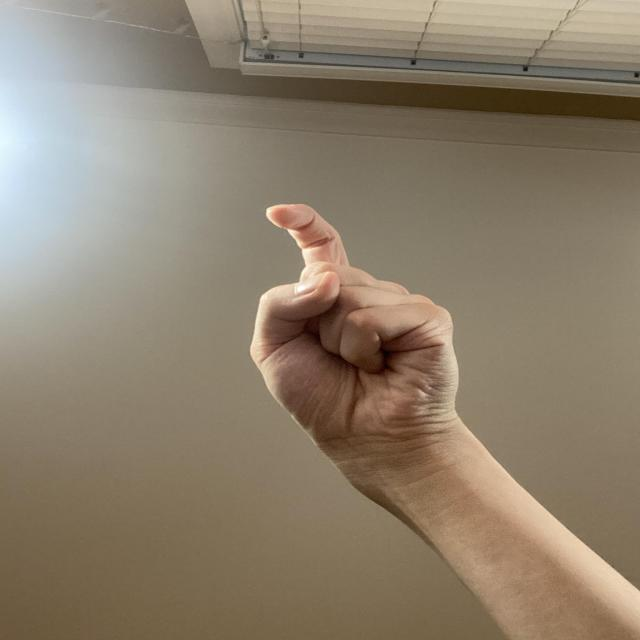X: (238, 197, 474, 462)
